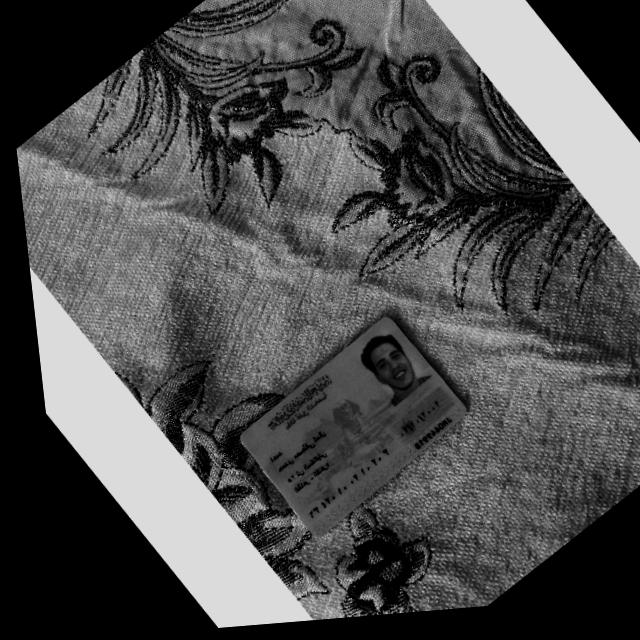front: (238, 316, 465, 537)
